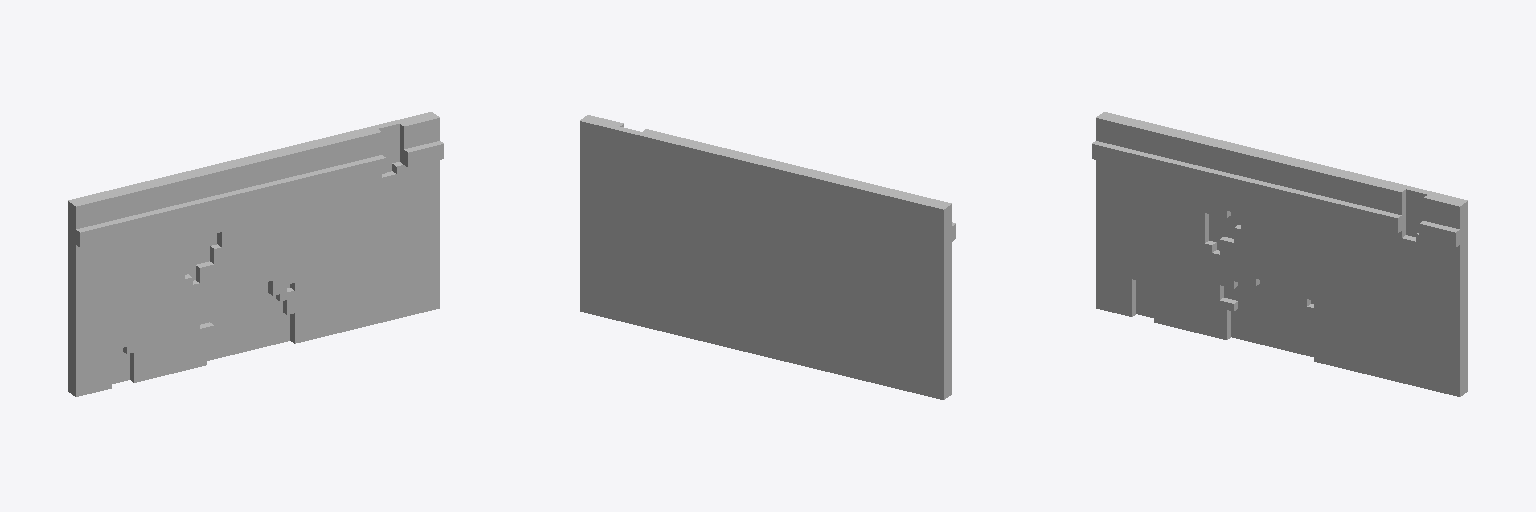
Rendered from Cafearatia wall.obj.
3 renders of one model, left to right at view 1: azimuth 30°, elevation 25°; view 2: azimuth 150°, elevation 25°; view 3: azimuth 330°, elevation 25°, orthographic.
Bounding box in the file's own units: 50 × 25 × 3.